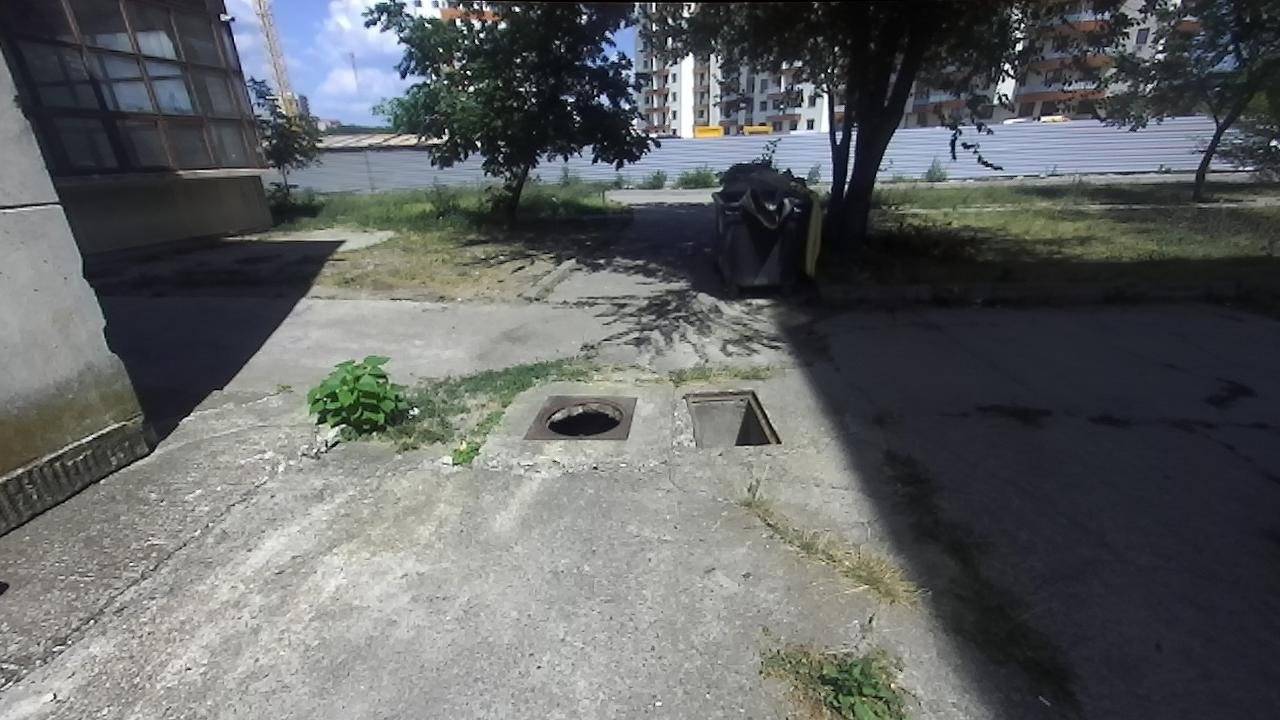drain: (676, 387, 785, 449), (537, 397, 626, 437)
